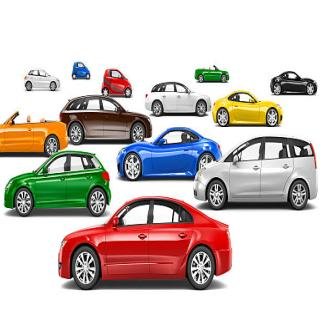Normal_vehicle: (61, 191, 234, 297), (191, 137, 318, 210), (4, 151, 112, 219), (114, 123, 221, 183), (59, 94, 152, 146), (206, 87, 288, 129), (1, 108, 69, 156), (144, 74, 211, 122), (268, 65, 320, 101), (100, 66, 136, 102), (190, 60, 233, 86), (26, 68, 59, 95), (69, 59, 95, 82)
